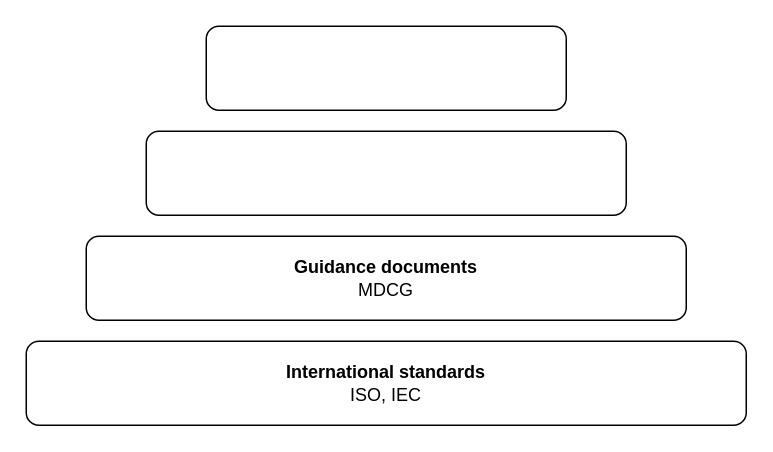
Image size: 773x452. Some labels were removed from this diagram. The shapes that lost their labels are listed below. From the top down, each one's centre as x and y in pixels, then its label:
At (x=385, y=67): "Union legislation MDR, IVDR".
At (x=385, y=172): "National legislation Member State provisions".
